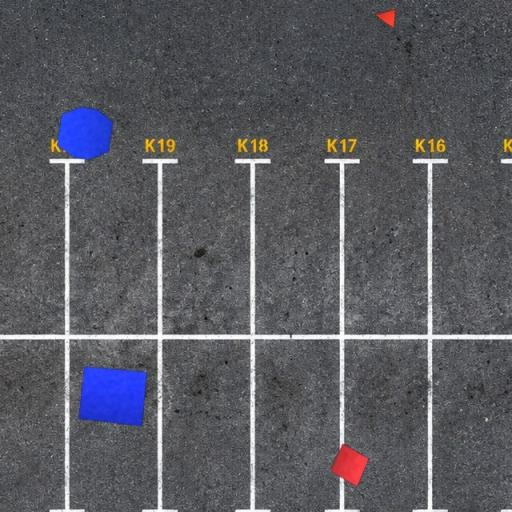BLUE_SQUARE: (78, 366, 147, 428)
RED_SQUARE: (330, 442, 370, 488)
